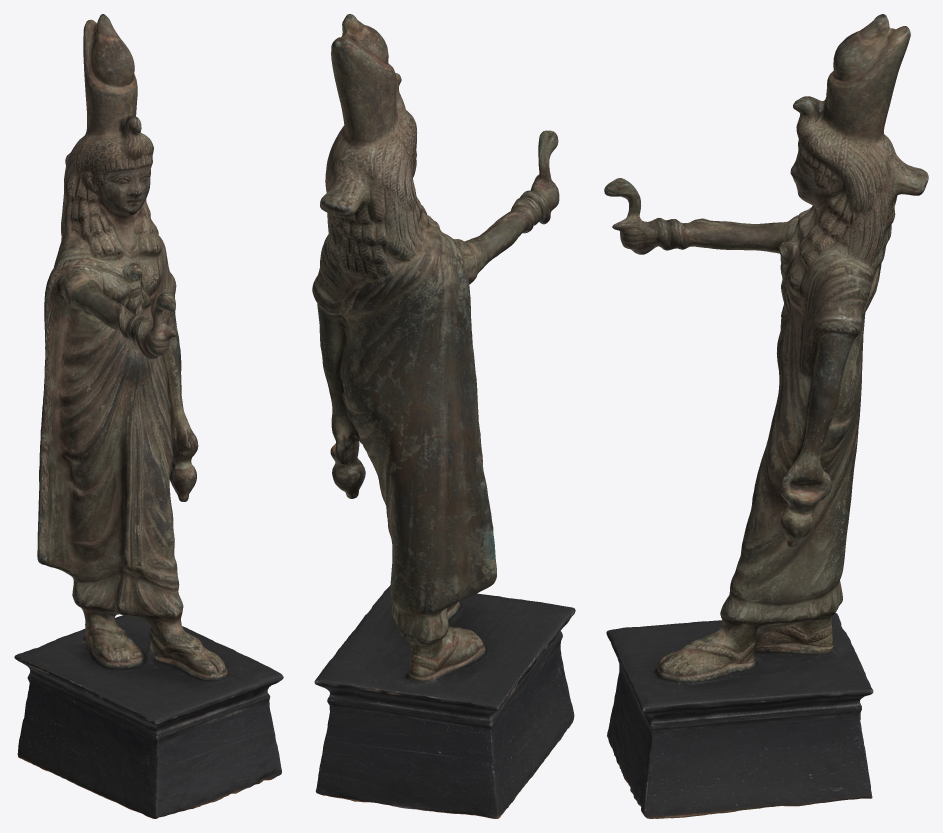
Rendered from preview.glb.
3 views of the same model, side by side, from view 1: azimuth 30°, elevation 25°; view 2: azimuth 150°, elevation 25°; view 3: azimuth 270°, elevation 25° (orthographic). The views are drawn at different scales.
Visible parts, largest first — view 1: Object_2; view 2: Object_2; view 3: Object_2.
Boxes of the visible parts, left/top/right/bottom form: Object_2: left=14, top=14, right=283, bottom=818; Object_2: left=312, top=14, right=575, bottom=818; Object_2: left=604, top=14, right=928, bottom=818.
Bounding box in the file's own units: 0.8635 × 3.19 × 1.22.
Materials: 1 (1 with a texture image).
